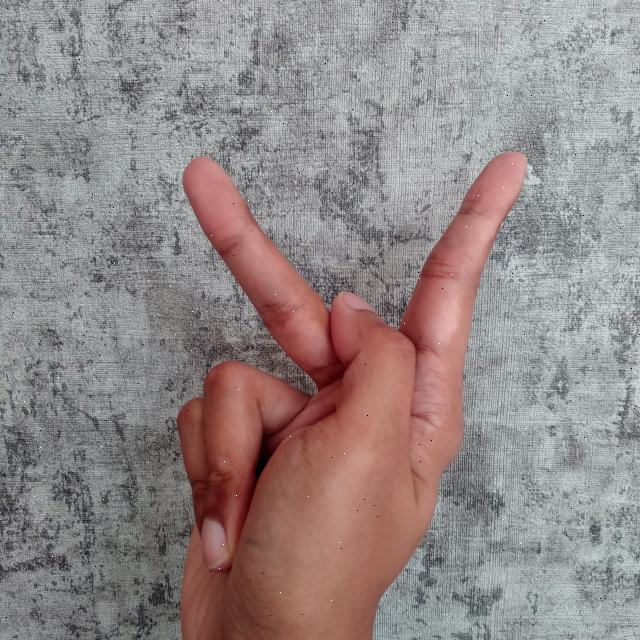K: (158, 138, 534, 640)
